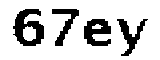6: (9, 5, 46, 51)
7: (49, 6, 81, 50)
e: (82, 16, 114, 50)
y: (116, 13, 151, 59)
